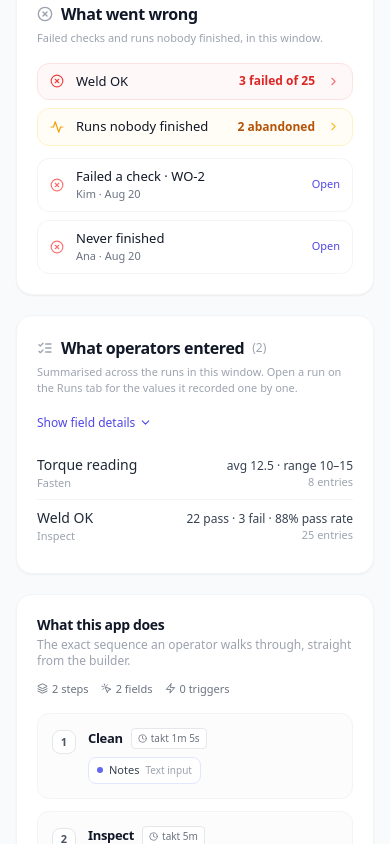
Scenario: field details are still reachable › opens the full cards — the pass/fail split and the number spread
(page scrolled)
Click the button "Show field details" at (95, 422), box top-left (37, 410), bottom-right (152, 434)
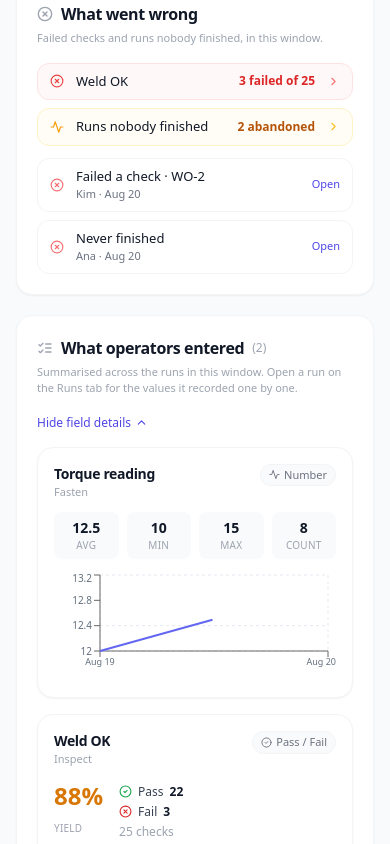
Expected: the text "12.5" is shown, top-left (72, 518), bottom-right (100, 537)
Result: the text "88%" is shown at top-left (54, 778), bottom-right (103, 812)
Result: the text "25 checks" is shown at top-left (119, 824), bottom-right (183, 840)
